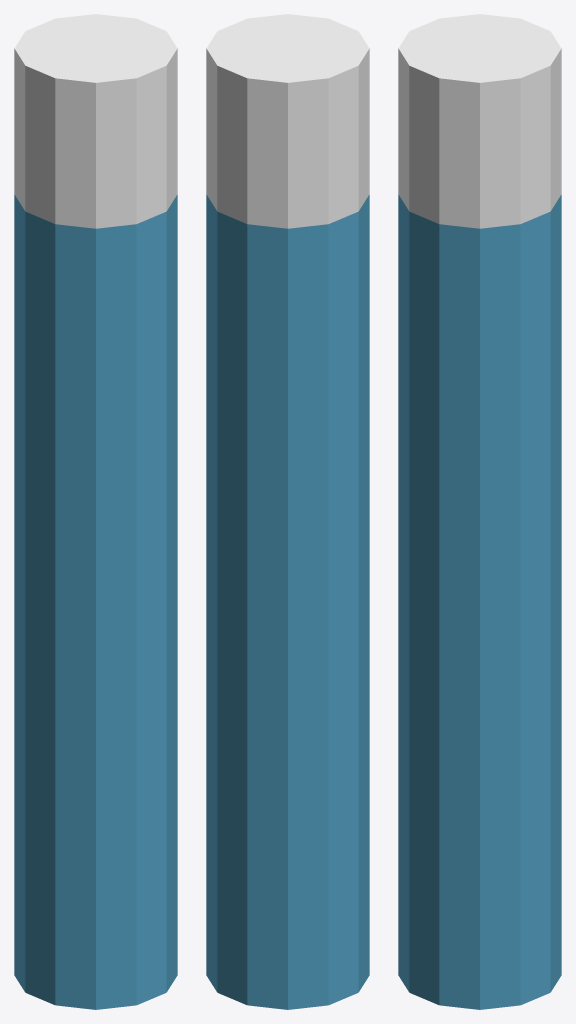
File: Tank08.gltf
3 views of the same model, side by side, from view 1: azimuth 30°, elevation 25°; view 2: azimuth 150°, elevation 25°; view 3: azimuth 270°, elevation 25° (orthographic).
Visible parts, largest first — view 1: Tank08; view 2: Tank08; view 3: Tank08.
Part boxes in pixels (x1,y1,x2,y2): Tank08: [14, 14, 177, 1009]; Tank08: [206, 14, 369, 1009]; Tank08: [398, 14, 561, 1009].
Bounding box in the file's own units: 0.5 × 3.14 × 0.5.
